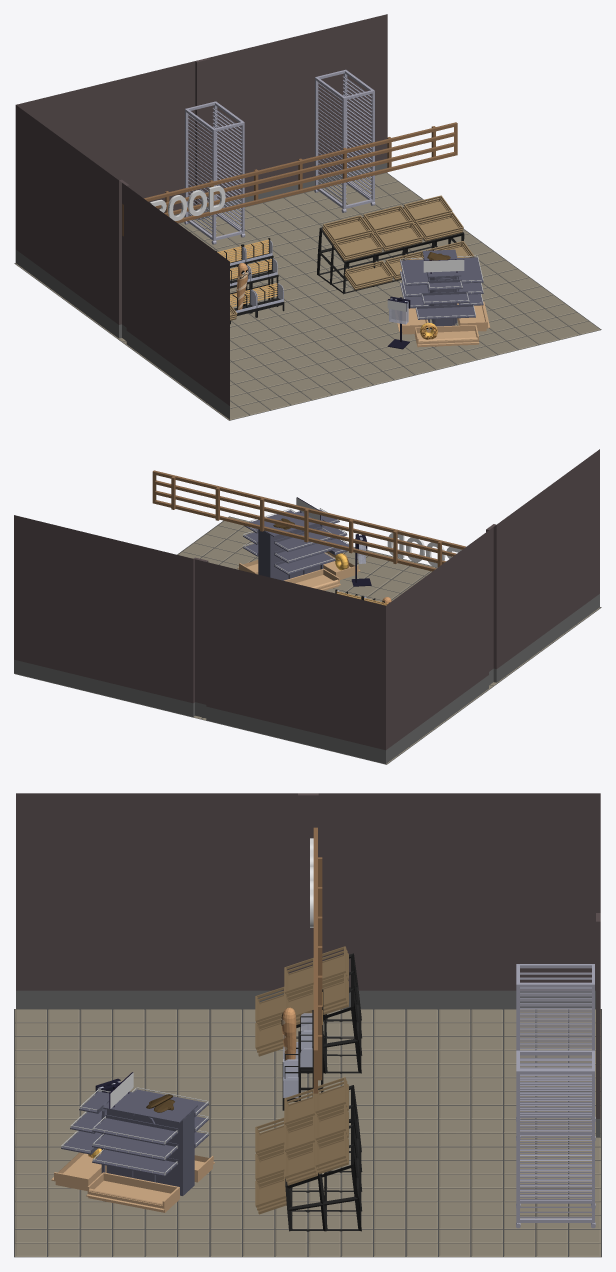
Rendered from Bakerij.glb.
3 views of the same model, one above another, from view 1: azimuth 30°, elevation 25°; view 2: azimuth 150°, elevation 25°; view 3: azimuth 270°, elevation 25° (orthographic). The views are drawn at different scales.
Visible parts, largest first — view 1: Muur, Plane.004, Plane.002, Plane.003, Cube.017, Cube.042, Cube.022, Plane.001, Cube.040, bakje onder 3, Text, Plane.005 (+12 smaller); view 2: Muur, Cube.017, Plane.002, Plane.004, main box, bakje onder 2, Text, vak.003, vak.004, vak.005, Plane.001; view 3: Muur, Plane.003, Plane.004, Plane.001, Plane.002, Cube.042, Cube.022, Cube.040, bakje onder 1, Cube.017, main box, Cube.041 (+24 smaller).
Boxes of the visible parts, x1,y1,x2,y2 form: Muur: (15,14,387,419); Plane.004: (122,297,415,420); Plane.002: (308,251,601,375); Plane.003: (202,173,493,296); Cube.017: (122,122,457,236); Cube.042: (314,69,375,212); Cube.022: (184,101,245,244); Plane.001: (14,219,307,341); Cube.040: (317,200,464,294); bakje onder 3: (415,325,479,347); Text: (150,186,225,220); Plane.005: (344,260,393,290); Muur: (14,449,599,763); Cube.017: (152,470,465,571); Plane.002: (177,516,415,598); Plane.004: (366,562,601,685); main box: (258,524,320,580); bakje onder 2: (284,568,340,590); Text: (387,533,461,566); vak.003: (274,553,335,574); vak.004: (274,543,335,563); vak.005: (274,526,333,551); Plane.001: (200,685,493,764); Muur: (16,793,600,1137); Plane.003: (307,1133,601,1257); Plane.004: (14,1009,308,1133); Plane.001: (307,1009,601,1133); Plane.002: (14,1133,308,1257); Cube.042: (516,1050,595,1228); Cube.022: (516,964,595,1140); Cube.040: (285,1085,362,1231); bakje onder 1: (86,1172,179,1212); Cube.017: (313,827,322,1093); main box: (106,1109,194,1195); Cube.041: (296,953,362,1073).
Size of the model in its own units: 8.4 by 3.45 by 8.39.
